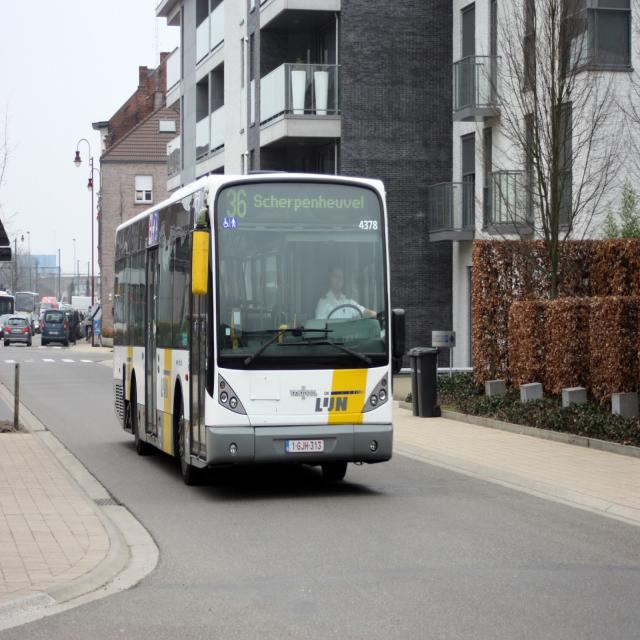bus-number: (225, 188, 248, 223)
